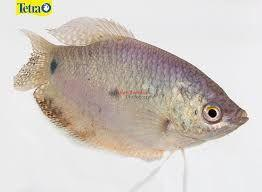Gourami: (16, 16, 249, 192)
